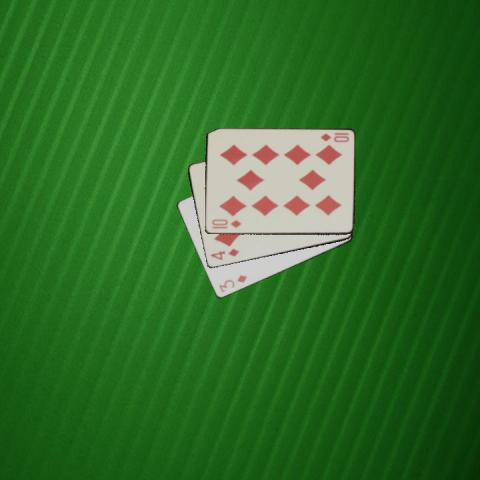10d: (318, 131, 350, 144), (209, 217, 242, 229)
3d: (216, 272, 249, 294)
4d: (207, 246, 240, 261)
